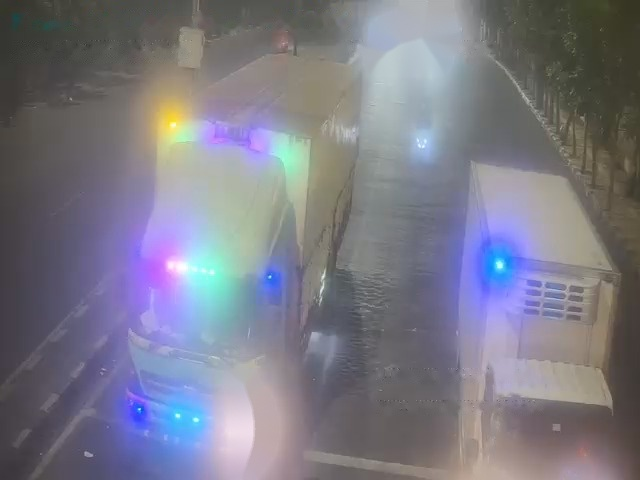Motor: (409, 129, 435, 161)
Truk: (136, 119, 347, 454), (485, 158, 639, 478)
